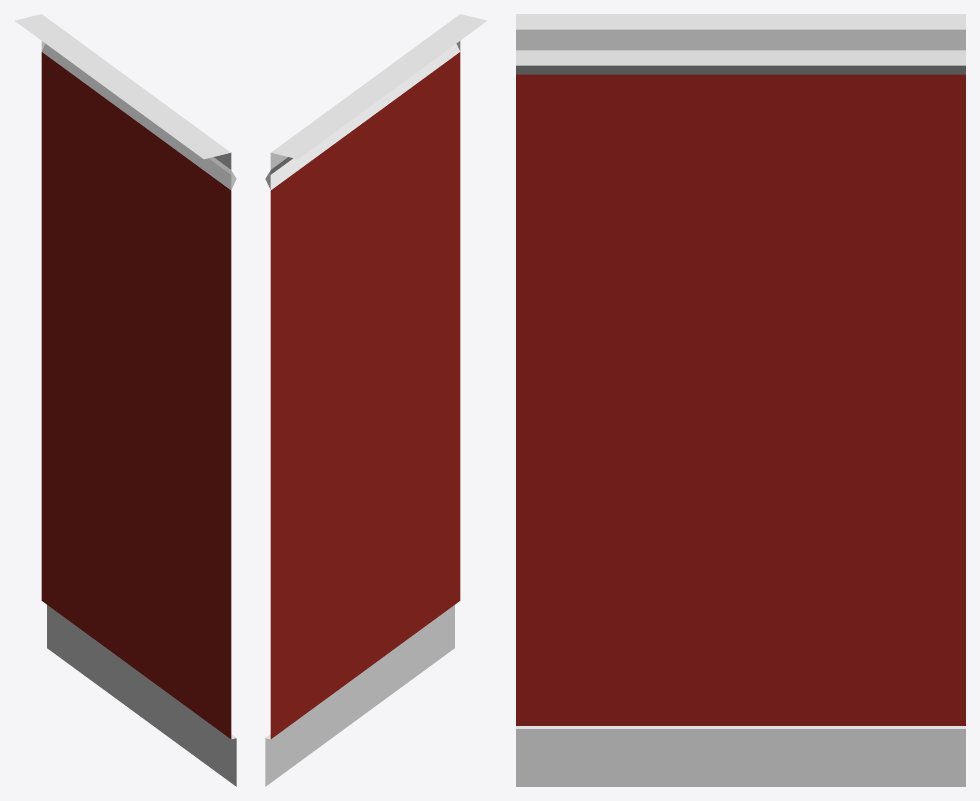
The model's file is g_t_RedWall.fbx.
The picture shows the model from 3 angles, left to right: view 1: azimuth 30°, elevation 25°; view 2: azimuth 150°, elevation 25°; view 3: azimuth 270°, elevation 25°; orthographic projection. The views are drawn at different scales.
Visible parts, largest first — view 1: g_t_RedWall; view 2: g_t_RedWall; view 3: g_t_RedWall.
Boxes of the visible parts, x1,y1,x2,y2 form: g_t_RedWall: (15,14,236,786); g_t_RedWall: (265,14,486,786); g_t_RedWall: (516,14,965,786).
Bounding box in the file's own units: 9.99 × 185 × 100.
